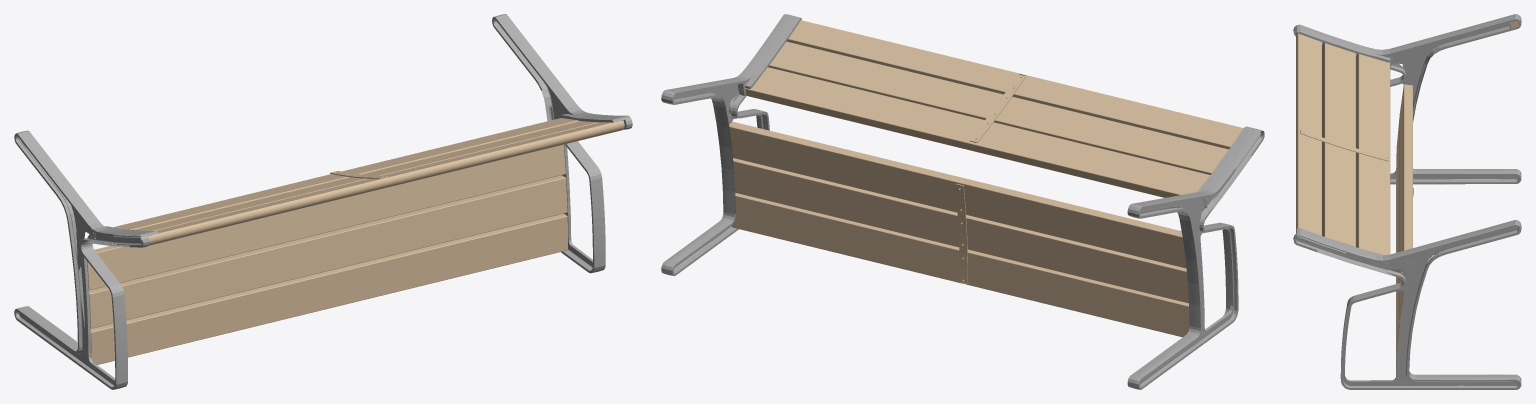
File: Skamya_5.glb
3 renders of one model, left to right at view 1: azimuth 30°, elevation 25°; view 2: azimuth 150°, elevation 25°; view 3: azimuth 270°, elevation 25°, orthographic. The views are drawn at different scales.
Visible parts, largest first — view 1: IFCBUILDINGELEMENTPROXY #42946, IFCBUILDINGELEMENTPROXY #9900, IFCBUILDINGELEMENTPROXY #19725; view 2: IFCBUILDINGELEMENTPROXY #42946, IFCBUILDINGELEMENTPROXY #9900, IFCBUILDINGELEMENTPROXY #19725, IFCBUILDINGELEMENTPROXY #27277; view 3: IFCBUILDINGELEMENTPROXY #42946, IFCBUILDINGELEMENTPROXY #19725, IFCBUILDINGELEMENTPROXY #9900, IFCBUILDINGELEMENTPROXY #27277.
Part boxes in pixels (x1=…): IFCBUILDINGELEMENTPROXY #42946: x1=87, y1=118, x2=624, y2=364; IFCBUILDINGELEMENTPROXY #9900: x1=14, y1=130, x2=158, y2=389; IFCBUILDINGELEMENTPROXY #19725: x1=492, y1=14, x2=632, y2=273; IFCBUILDINGELEMENTPROXY #42946: x1=729, y1=20, x2=1243, y2=337; IFCBUILDINGELEMENTPROXY #9900: x1=1127, y1=126, x2=1264, y2=389; IFCBUILDINGELEMENTPROXY #19725: x1=661, y1=14, x2=801, y2=275; IFCBUILDINGELEMENTPROXY #27277: x1=955, y1=74, x2=1026, y2=283; IFCBUILDINGELEMENTPROXY #42946: x1=1296, y1=32, x2=1412, y2=374; IFCBUILDINGELEMENTPROXY #19725: x1=1293, y1=220, x2=1521, y2=389; IFCBUILDINGELEMENTPROXY #9900: x1=1293, y1=14, x2=1521, y2=184; IFCBUILDINGELEMENTPROXY #27277: x1=1300, y1=129, x2=1413, y2=196.
Size of the model in its own units: 1.8 by 0.6597 by 0.8232.
